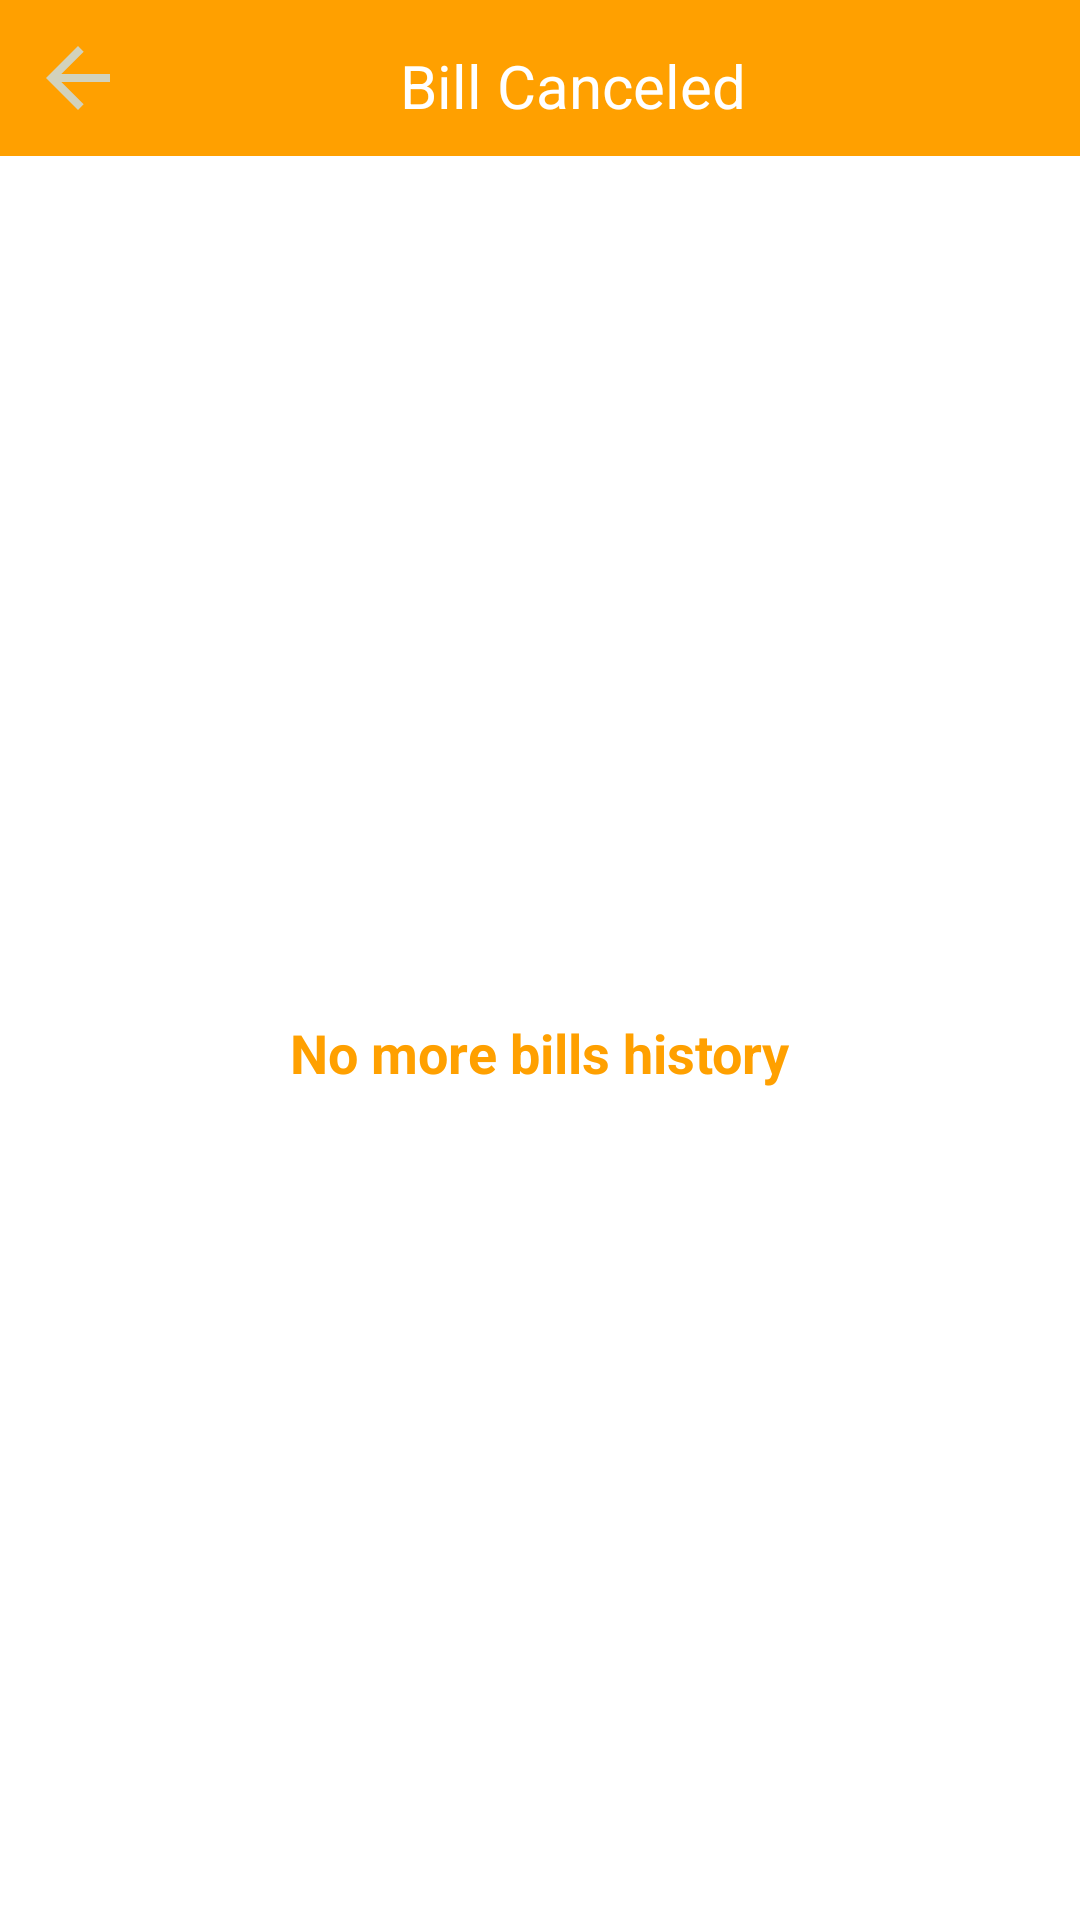

Icons on this 1080px×1920px Android screen, each with its box as rect(x1, y1, x2, y2):
arrow back: rect(46, 46, 110, 110)
